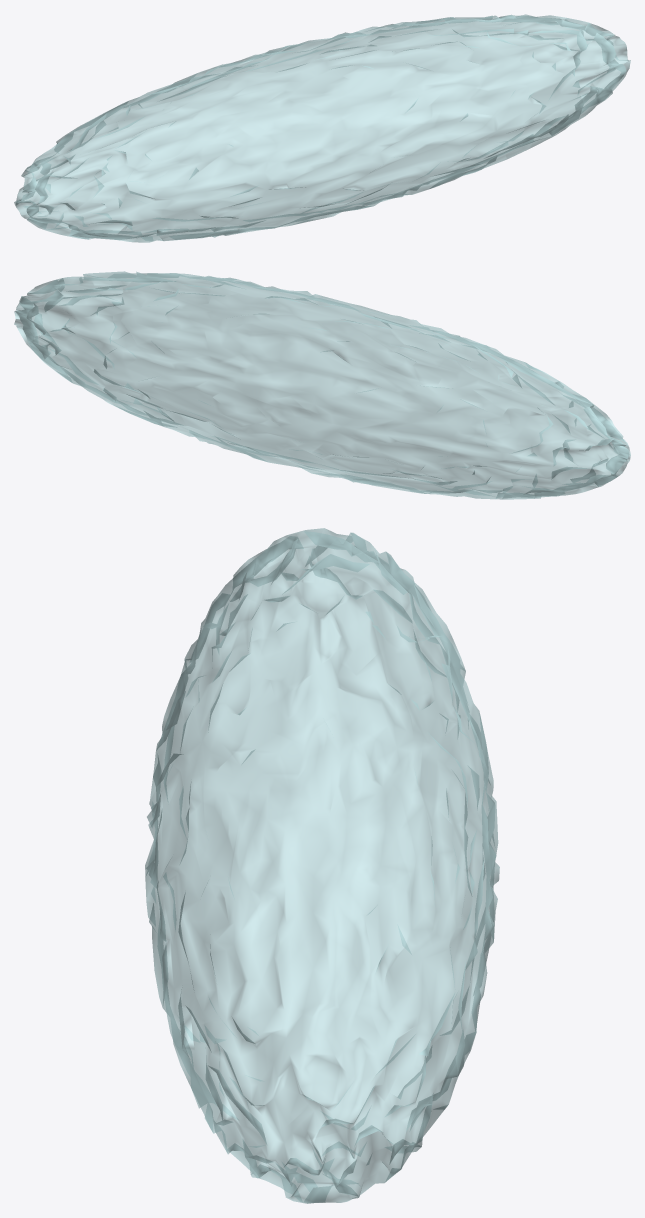
The model's file is small-waves.baked.fbx.
3 renders of one model, top to bottom at view 1: azimuth 30°, elevation 25°; view 2: azimuth 150°, elevation 25°; view 3: azimuth 270°, elevation 25°, orthographic. The views are drawn at different scales.
Parts seen in each view (by area): view 1: Landscape.001; view 2: Landscape.001; view 3: Landscape.001.
Part boxes in pixels (x1=…): Landscape.001: x1=14, y1=14, x2=630, y2=242; Landscape.001: x1=14, y1=271, x2=630, y2=499; Landscape.001: x1=145, y1=528, x2=499, y2=1203.
Bounding box in the file's own units: 6695 × 1681 × 1684.
